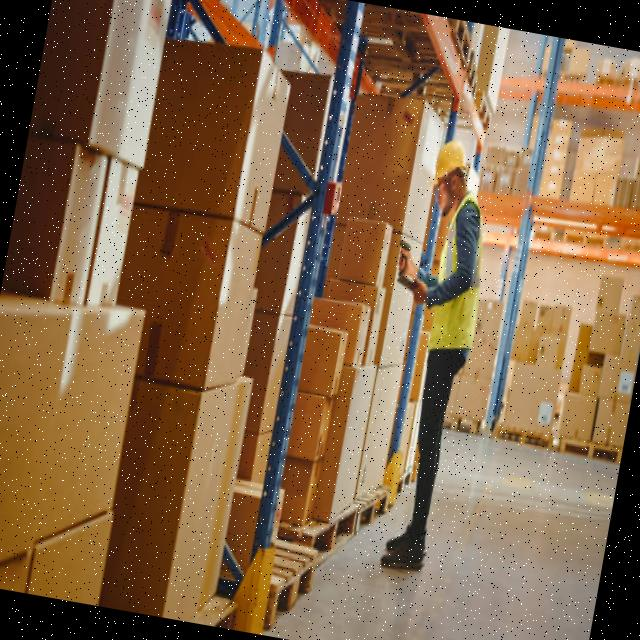Wooden-Pallets: (316, 486, 391, 564), (267, 549, 316, 635), (488, 412, 554, 454), (554, 430, 624, 469)
